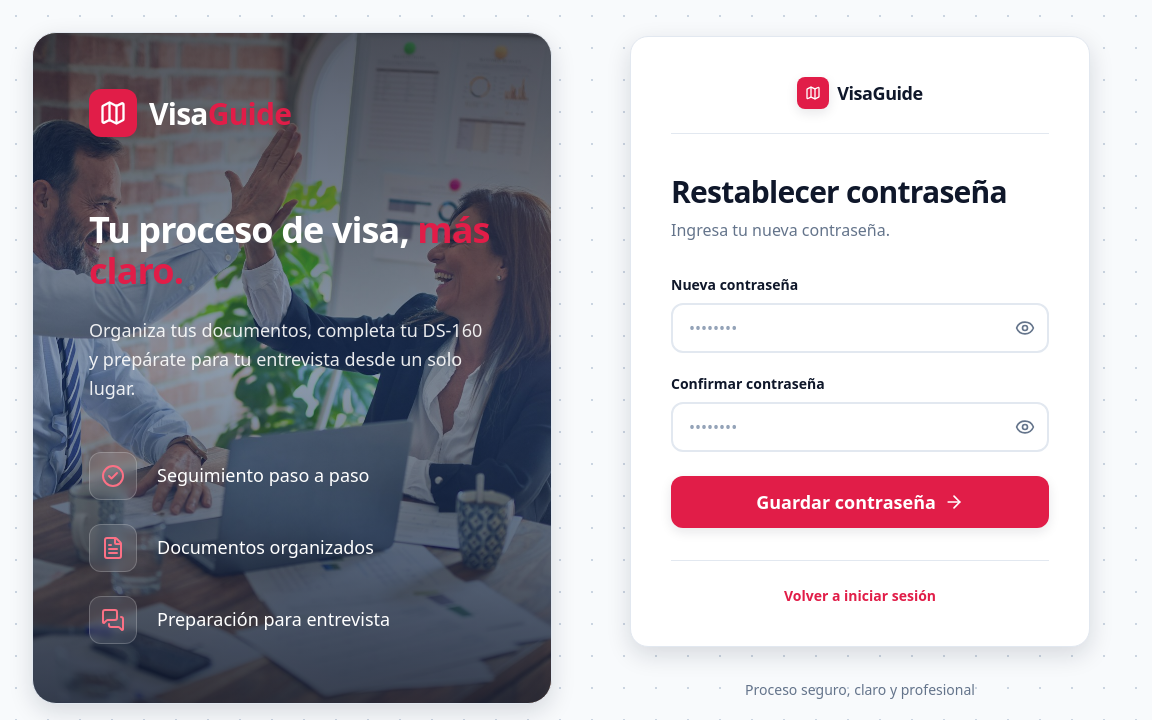
Scenario: pantallas de autenticación › muestra el error del servidor cuando el token de restablecimiento es inválido
This screenshot has width=1152, height=720.
Type "clave123" into the password field labelled "Nueva contraseña". click: (860, 328)
box: [671,303,1049,353]
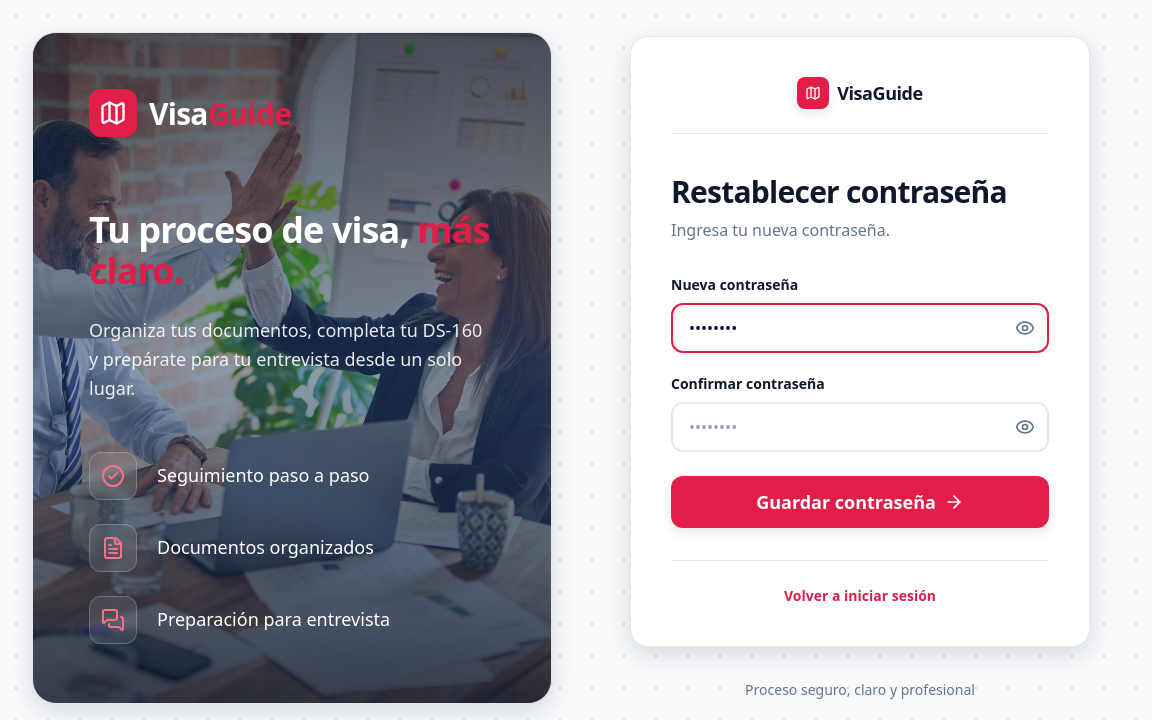
Type "clave123" into the password field labelled "Confirmar contraseña". click: (860, 427)
box: [671,402,1049,452]
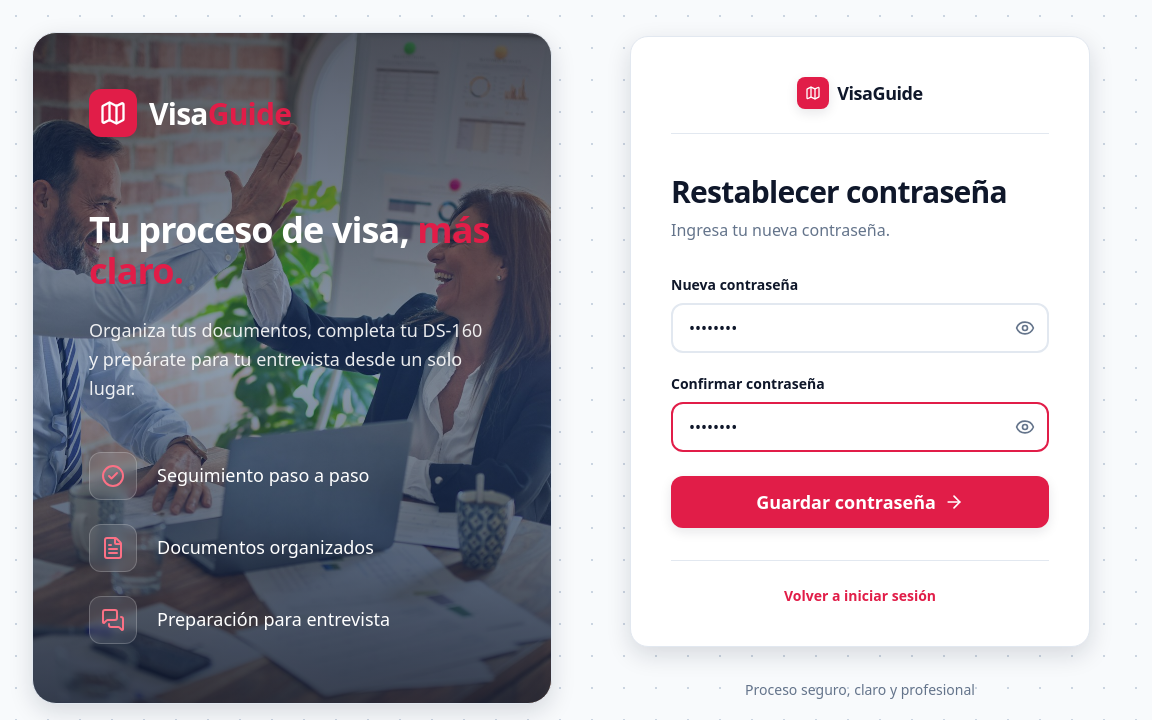
Click the button "Guardar contraseña". click: (860, 502)
box: [671,476,1049,528]
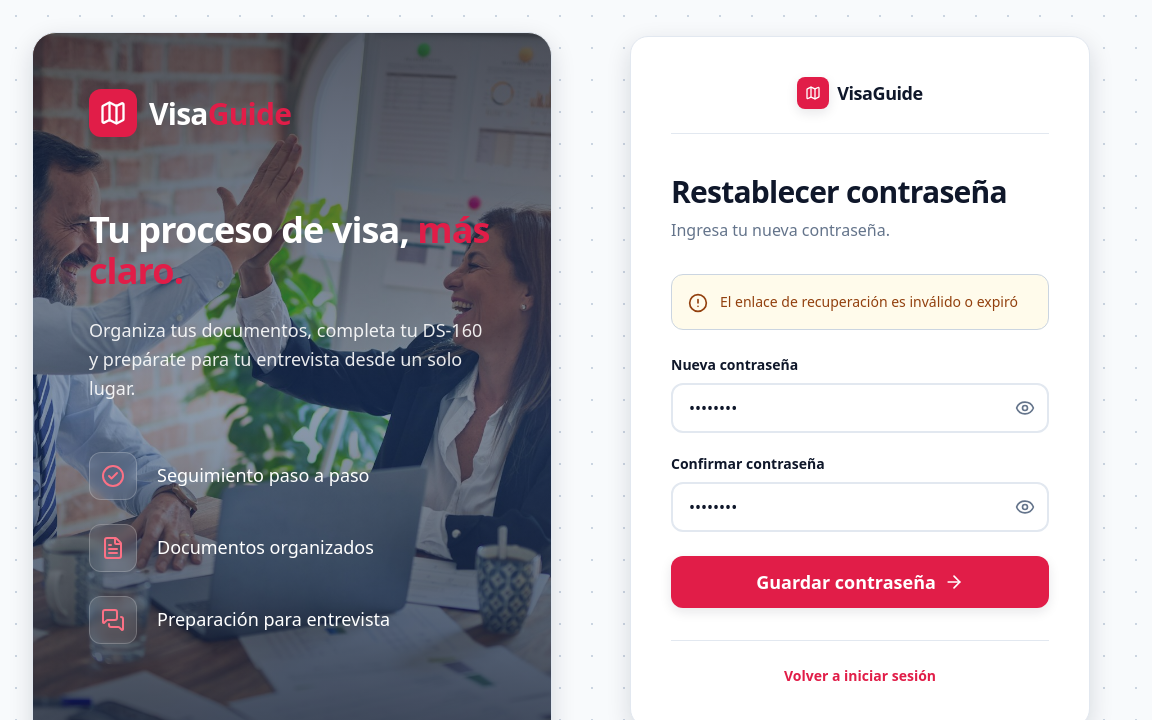
Expected: the message reads "El enlace de recuperación es inválido o expiró", [720,292,1018,311]
